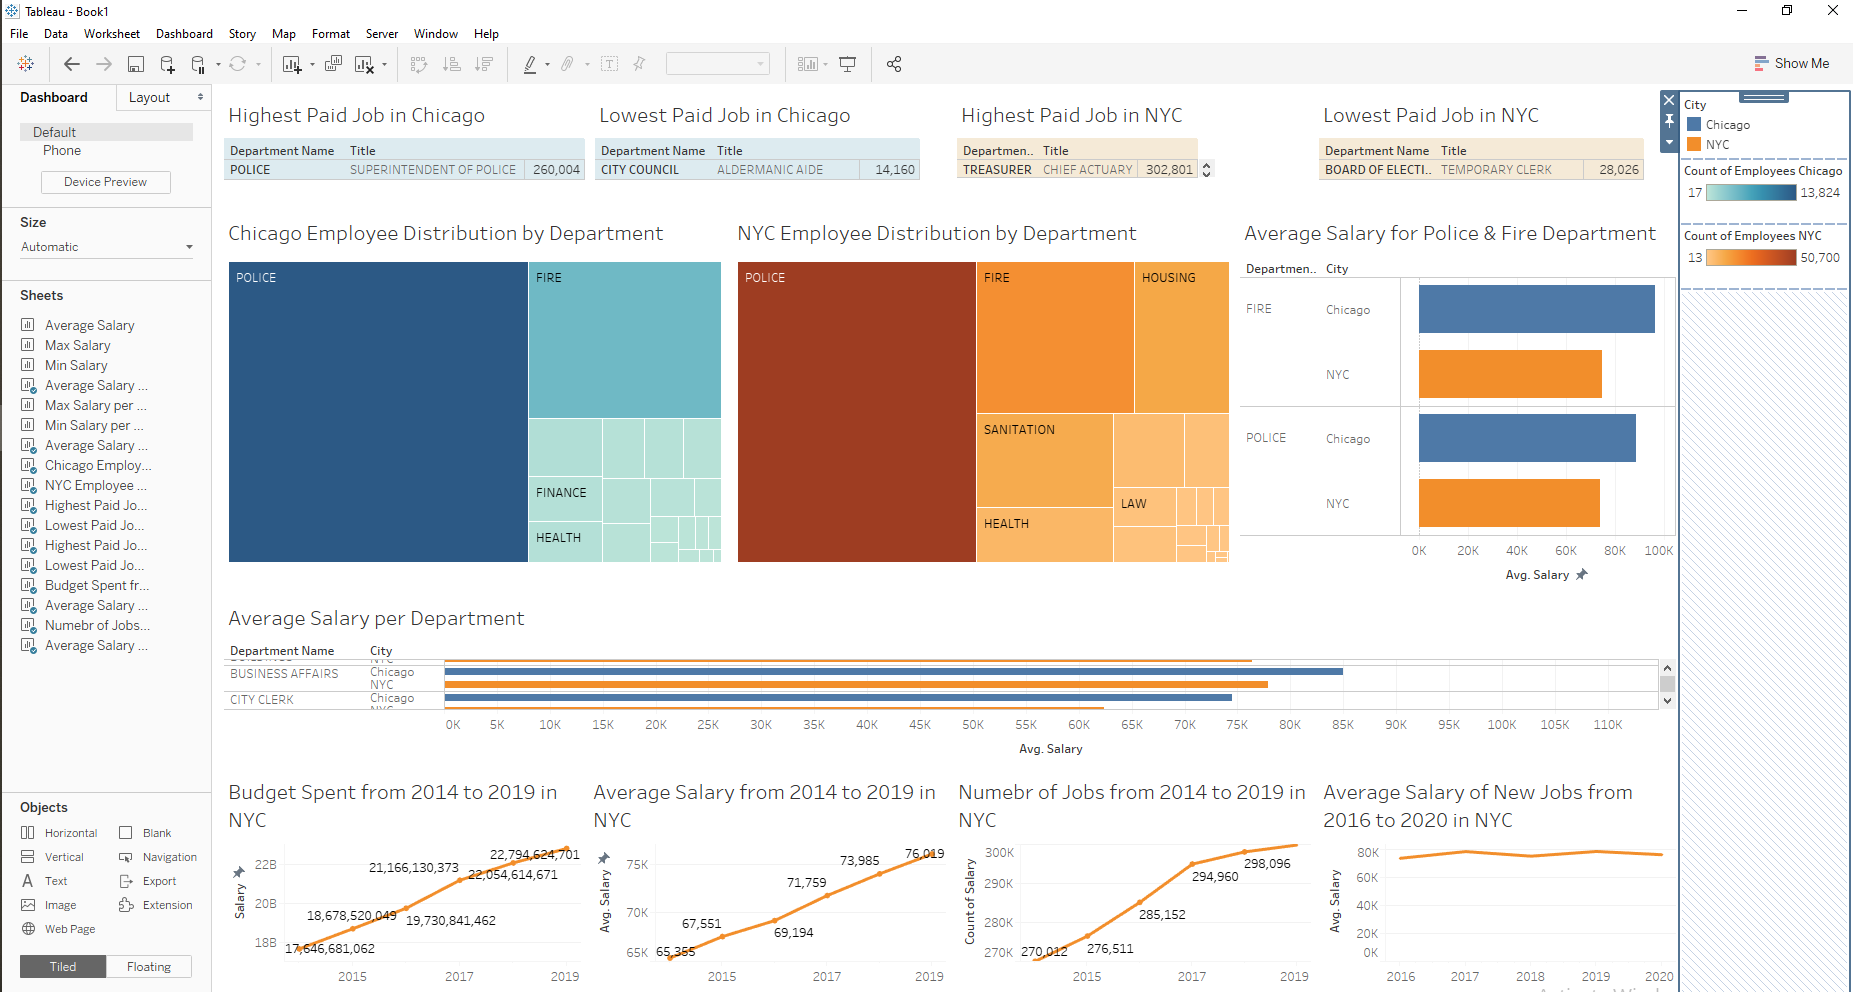

What the dashboard file says about the page in this screenshot:
{"tool":"tableau","page":{"name":"Dashboard 1","canvas":[1000,1000],"units":"permille","ordinal":0},"visuals":[{"type":"worksheet","title":"Highest Paid Job in Chicago","mark":"Automatic","rows":["DepartmentName","Title"],"box":[4.9,8.5,225.7,125]},{"type":"worksheet","title":"Lowest Paid Job in Chicago","mark":"Automatic","rows":["DepartmentName","Title"],"box":[230.6,8.5,219.9,125]},{"type":"worksheet","title":"Highest Paid Job in NYC","mark":"Automatic","rows":["DepartmentName","Title"],"box":[450.5,8.5,220,125]},{"type":"worksheet","title":"Lowest Paid Job in NYC","mark":"Automatic","rows":["DepartmentName","Title"],"box":[670.5,8.5,221.9,125]},{"type":"legend","title":"Average Salary per Department","param":"[federated.18enlr71qboss317oyqcf1cregph].[none:City:nk]","box":[892.4,8.5,102.7,69.9]},{"type":"legend","title":"Chicago Employee Distribution by Department","param":"[federated.18enlr71qboss317oyqcf1cregph].[cnt:Salary:qk]","box":[892.4,78.4,102.7,68.9]},{"type":"worksheet","title":"Chicago Employee Distribution by Department","mark":"Automatic","box":[4.9,133.5,309,407.8]},{"type":"worksheet","title":"NYC Employee Distribution by Department","mark":"Automatic","box":[313.9,133.5,308.5,407.8]},{"type":"worksheet","title":"Average Salary for Police & Fire Department","mark":"Automatic","rows":["DepartmentName","City"],"cols":["Salary"],"box":[622.4,133.5,270,407.8]},{"type":"legend","title":"NYC Employee Distribution by Department","param":"[federated.18enlr71qboss317oyqcf1cregph].[cnt:Salary:qk]","box":[892.4,147.2,102.7,68.9]},{"type":"worksheet","title":"Average Salary per Department","mark":"Automatic","rows":["DepartmentName","City"],"cols":["Salary"],"box":[4.9,541.3,887.5,184.3]},{"type":"worksheet","title":"Budget Spent from 2014 to 2019 in NYC","mark":"Automatic","rows":["Salary"],"cols":["Year"],"box":[4.9,725.6,221.8,265.9]},{"type":"worksheet","title":"Average Salary from 2014 to 2019 in NYC","mark":"Automatic","rows":["Salary"],"cols":["Year"],"box":[226.7,725.6,221.9,265.9]},{"type":"worksheet","title":"Numebr of Jobs from 2014 to 2019 in NYC","mark":"Automatic","rows":["Salary"],"cols":["Year"],"box":[448.6,725.6,226.8,265.9]},{"type":"worksheet","title":"Average Salary of New Jobs from 2016 to 2020 in NYC","mark":"Automatic","rows":["Salary"],"cols":["Year"],"box":[675.4,725.6,217,265.9]}]}

Visuals, with their boxes on the dashboard's canvas, which has no fixed pixel size, in thousandths of its width and height (x1, y1, x2, y2). These are canvas units, not pixel positions in the 1853x992 screenshot, which may show the page scaled, cropped or inside an application window:
"Highest Paid Job in Chicago" worksheet: {"x1": 5, "y1": 8, "x2": 231, "y2": 134}
"Lowest Paid Job in Chicago" worksheet: {"x1": 231, "y1": 8, "x2": 450, "y2": 134}
"Highest Paid Job in NYC" worksheet: {"x1": 450, "y1": 8, "x2": 670, "y2": 134}
"Lowest Paid Job in NYC" worksheet: {"x1": 670, "y1": 8, "x2": 892, "y2": 134}
"Average Salary per Department" legend: {"x1": 892, "y1": 8, "x2": 995, "y2": 78}
"Chicago Employee Distribution by Department" legend: {"x1": 892, "y1": 78, "x2": 995, "y2": 147}
"Chicago Employee Distribution by Department" worksheet: {"x1": 5, "y1": 134, "x2": 314, "y2": 541}
"NYC Employee Distribution by Department" worksheet: {"x1": 314, "y1": 134, "x2": 622, "y2": 541}
"Average Salary for Police & Fire Department" worksheet: {"x1": 622, "y1": 134, "x2": 892, "y2": 541}
"NYC Employee Distribution by Department" legend: {"x1": 892, "y1": 147, "x2": 995, "y2": 216}
"Average Salary per Department" worksheet: {"x1": 5, "y1": 541, "x2": 892, "y2": 726}
"Budget Spent from 2014 to 2019 in NYC" worksheet: {"x1": 5, "y1": 726, "x2": 227, "y2": 992}
"Average Salary from 2014 to 2019 in NYC" worksheet: {"x1": 227, "y1": 726, "x2": 449, "y2": 992}
"Numebr of Jobs from 2014 to 2019 in NYC" worksheet: {"x1": 449, "y1": 726, "x2": 675, "y2": 992}
"Average Salary of New Jobs from 2016 to 2020 in NYC" worksheet: {"x1": 675, "y1": 726, "x2": 892, "y2": 992}
